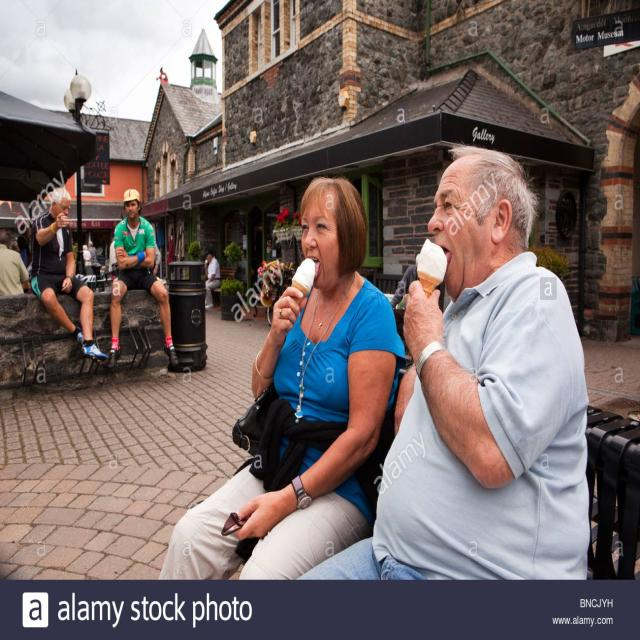body: (290, 141, 592, 581), (157, 177, 407, 581), (106, 186, 182, 376), (28, 187, 108, 362), (383, 260, 432, 352), (0, 228, 31, 296), (204, 250, 222, 312), (8, 234, 32, 272), (88, 240, 100, 264), (81, 244, 92, 267)
